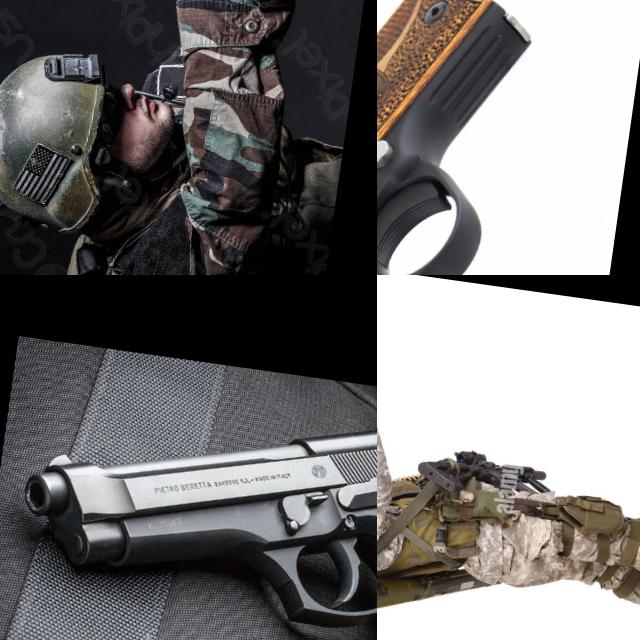handgun: (0, 352, 377, 640), (377, 0, 560, 275), (125, 0, 208, 85), (377, 283, 402, 368)
